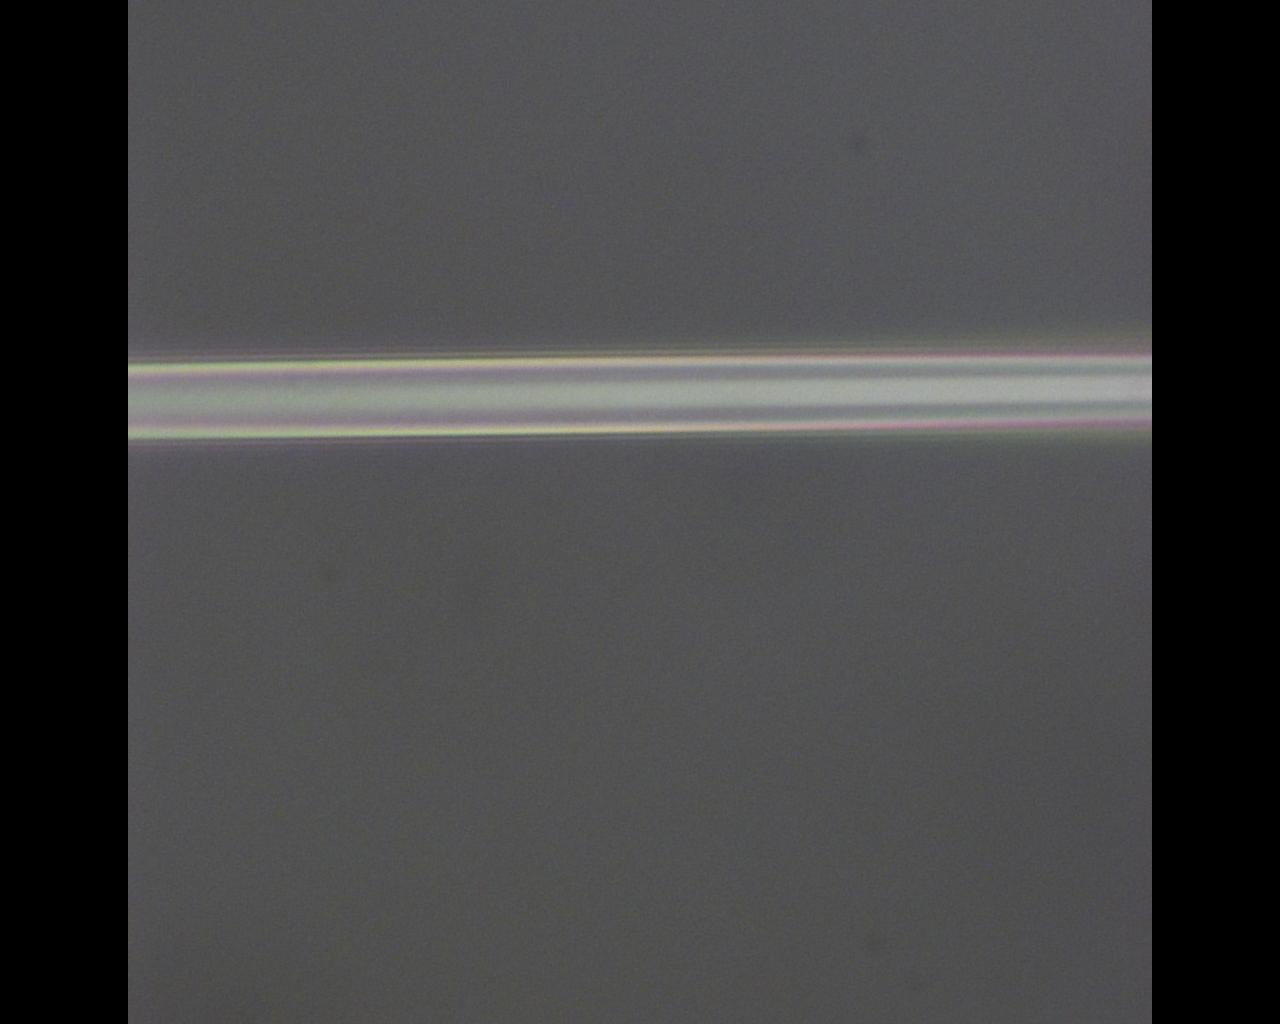fiber: (128, 347, 1152, 441)
